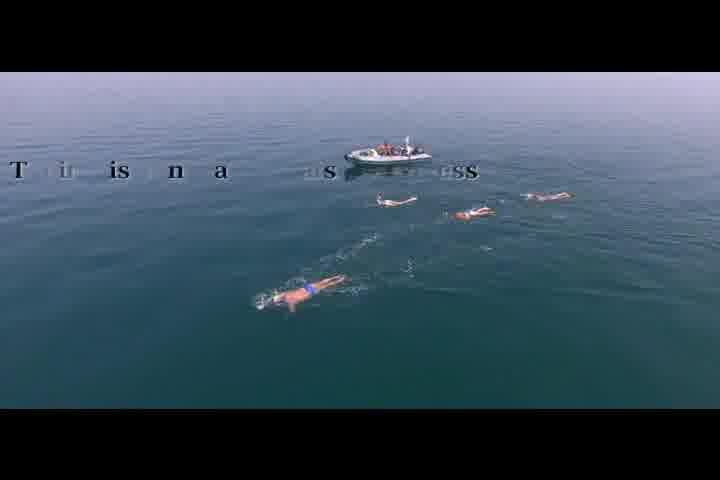human: (258, 268, 346, 314), (256, 234, 334, 272), (446, 202, 496, 222), (522, 188, 570, 207), (380, 191, 415, 210)
